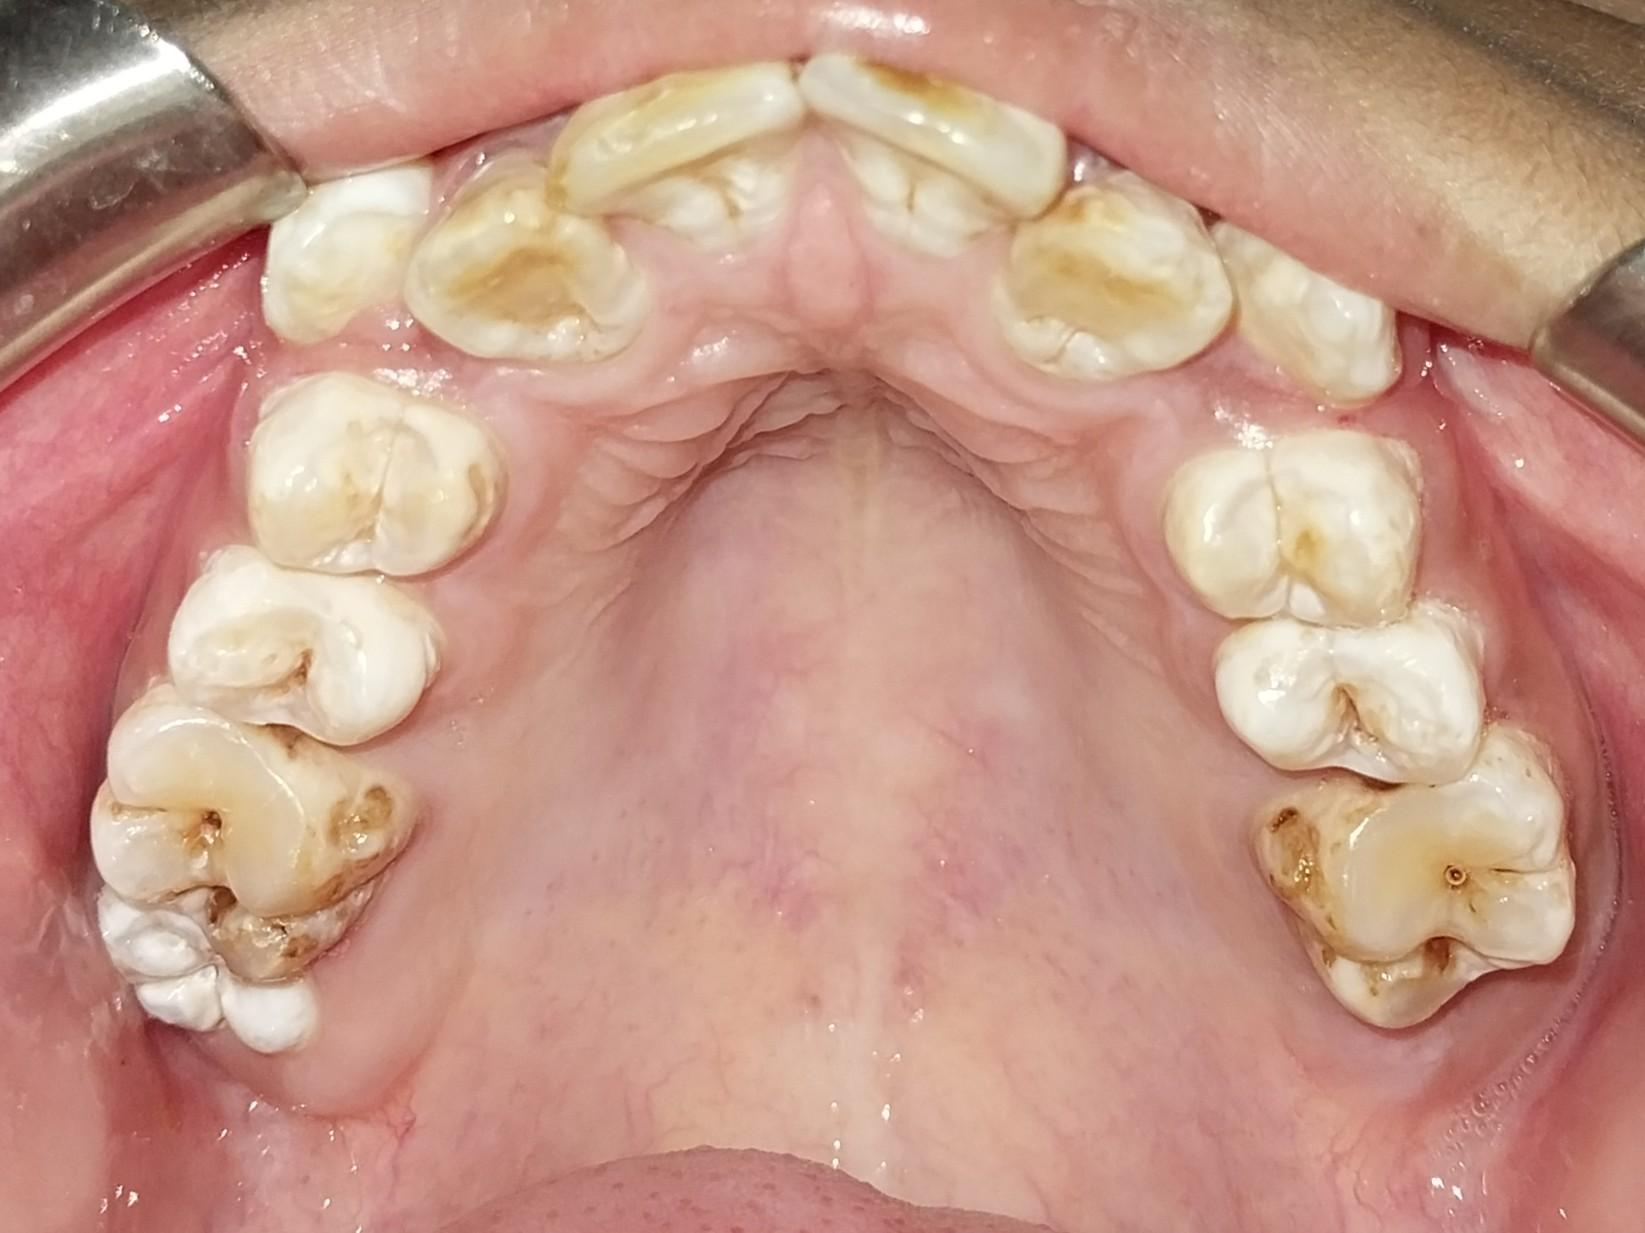D: (1238, 740, 1579, 1036), (87, 702, 415, 986), (1212, 612, 1490, 792), (163, 565, 434, 739)
